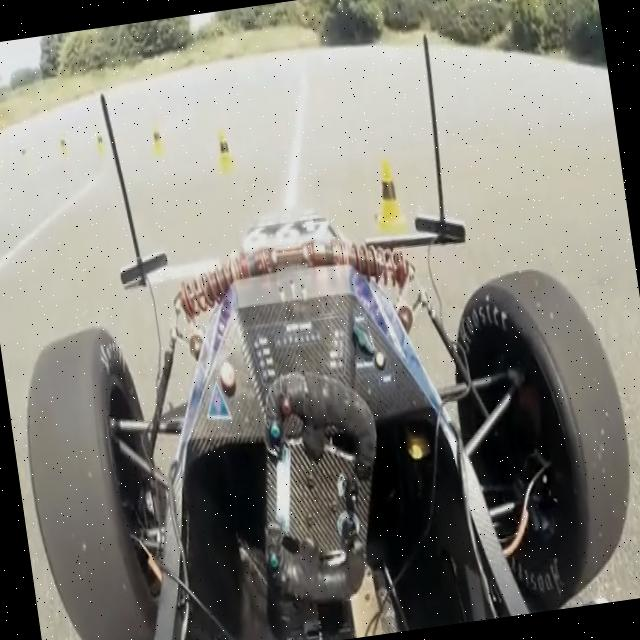yellow_cone: (358, 158, 414, 224), (206, 120, 238, 176), (142, 122, 170, 162)
